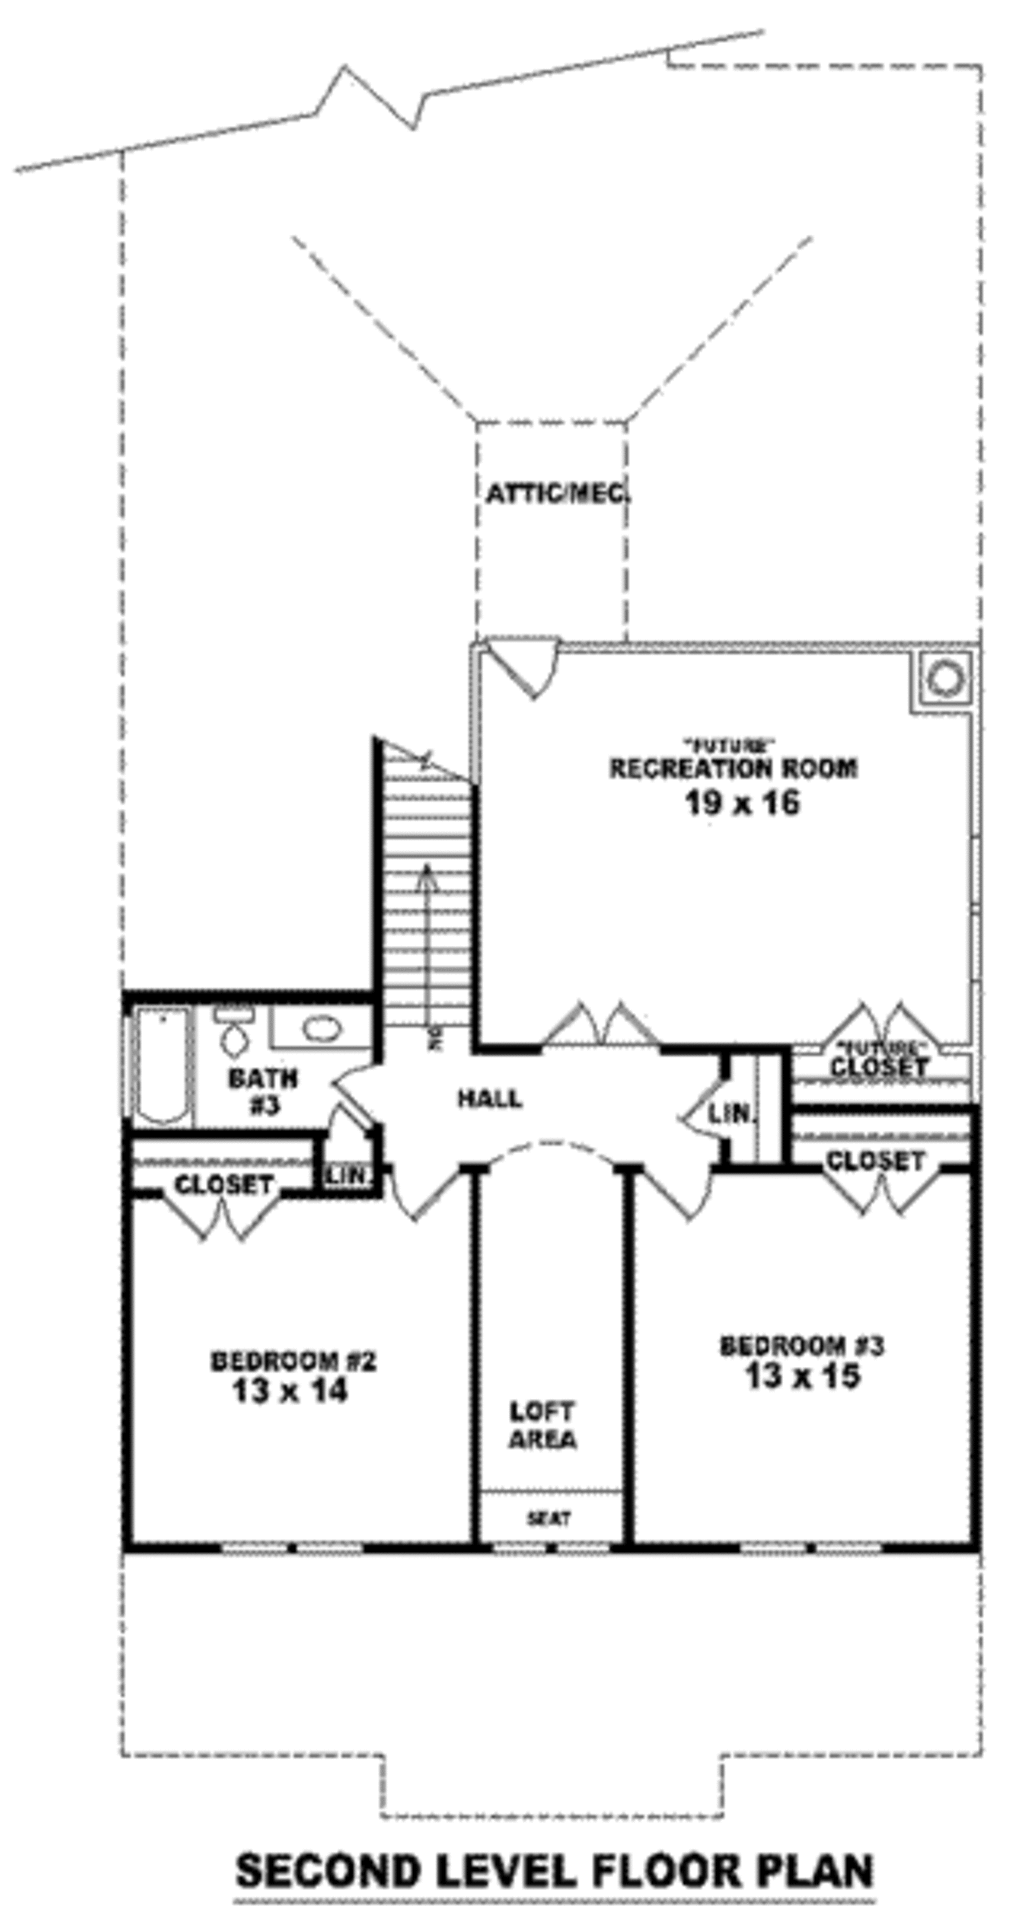door: (152, 1170, 282, 1252), (823, 1137, 940, 1225), (538, 987, 654, 1054), (638, 1149, 729, 1228), (478, 625, 558, 714), (811, 1003, 940, 1054), (382, 1158, 485, 1223), (305, 1099, 382, 1165), (682, 1073, 735, 1149), (335, 1070, 399, 1130)
large_sink: (208, 992, 254, 1061)
small_sink: (273, 1005, 385, 1058)
stairs: (378, 730, 478, 1058)
tub: (114, 999, 208, 1143)
window: (485, 1520, 620, 1570), (729, 1528, 873, 1573), (211, 1549, 347, 1554)
